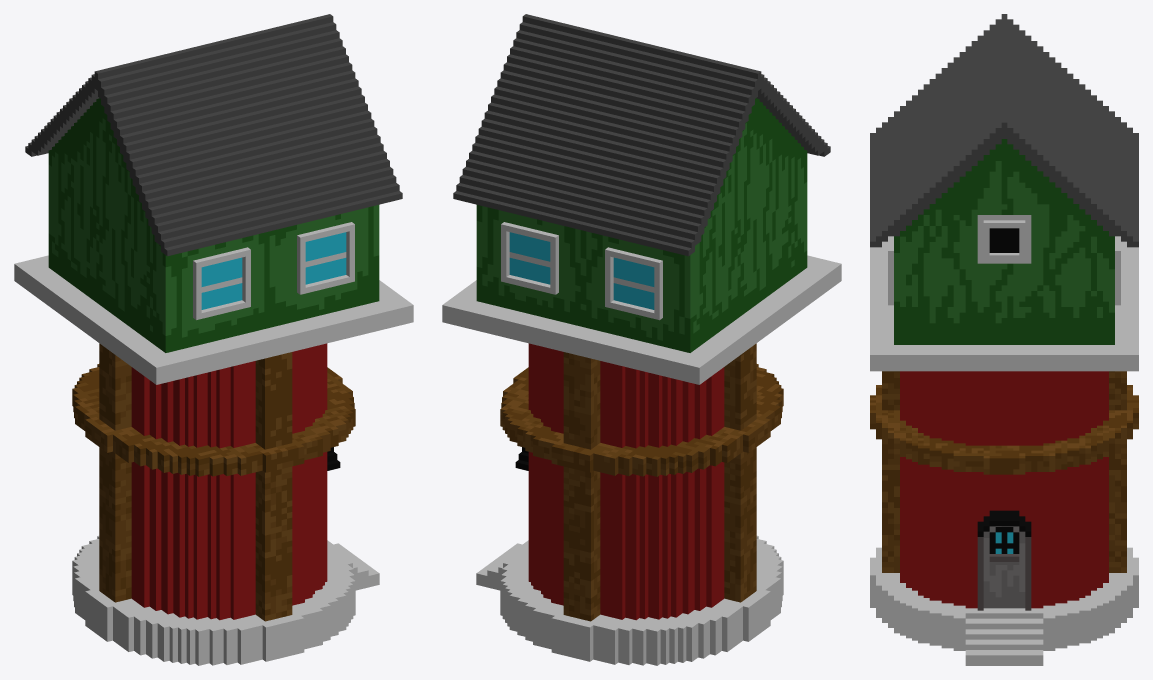
The model's file is windmill.obj.
3 renders of one model, left to right at view 1: azimuth 30°, elevation 25°; view 2: azimuth 150°, elevation 25°; view 3: azimuth 270°, elevation 25°, orthographic. The views are drawn at different scales.
Parts seen in each view (by area): view 1: tinker; view 2: tinker; view 3: tinker.
Part boxes in pixels (x1,y1,x2,y2): tinker: (14,14,413,665); tinker: (442,14,841,665); tinker: (870,14,1138,665).
Bounding box in the file's own units: 5 × 9.8 × 4.5.
Materials: 1 (1 with a texture image).
